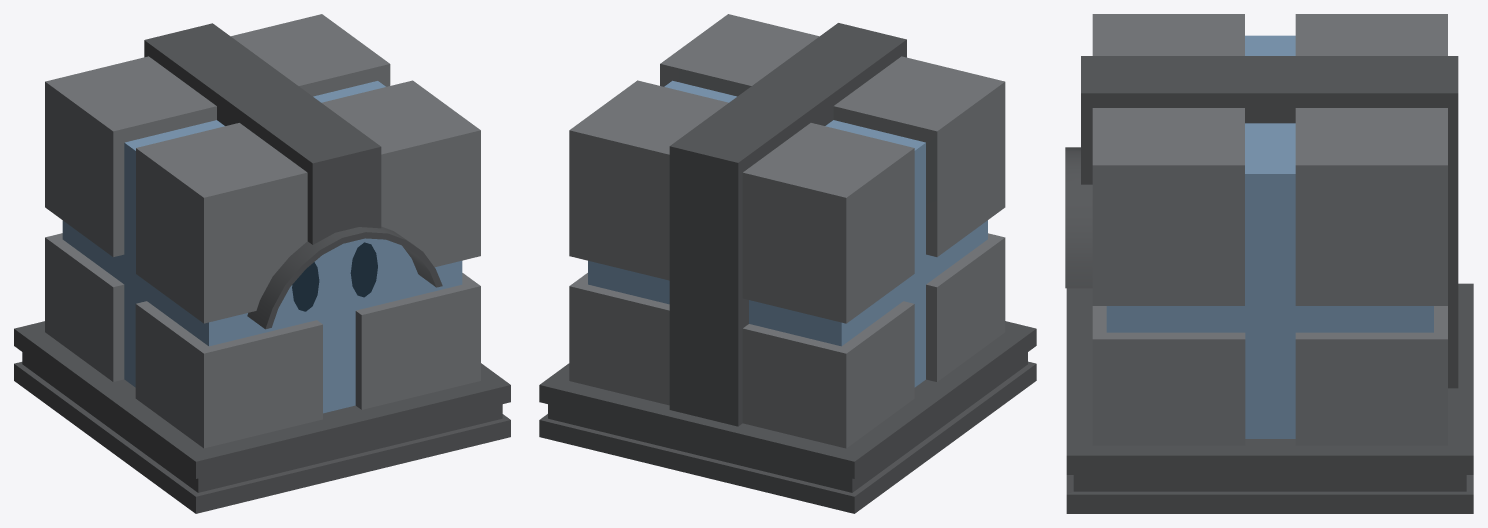
Rendered from CuboAwa.fbx.
3 views of the same model, side by side, from view 1: azimuth 30°, elevation 25°; view 2: azimuth 150°, elevation 25°; view 3: azimuth 270°, elevation 25° (orthographic). The views are drawn at different scales.
Parts seen in each view (by area): view 1: ArmazonInt, Base, ArmazonExt, Int, Ojito; view 2: ArmazonInt, ArmazonExt, Base, Int; view 3: ArmazonInt, Base, ArmazonExt, Int.
Boxes of the visible parts, box(x1,y1,x2,y2) form: ArmazonInt: box(45, 14, 480, 448); Base: box(14, 321, 510, 513); ArmazonExt: box(144, 23, 442, 329); Int: box(62, 81, 462, 413); Ojito: box(292, 242, 377, 311); ArmazonInt: box(569, 14, 1005, 448); ArmazonExt: box(669, 23, 906, 426); Base: box(539, 321, 1036, 513); Int: box(588, 80, 987, 387); ArmazonInt: box(1092, 14, 1447, 445); Base: box(1066, 283, 1473, 513); ArmazonExt: box(1065, 56, 1458, 388); Int: box(1106, 35, 1433, 438).
Size of the model in its own units: 24.85 by 23.8 by 24.94.
